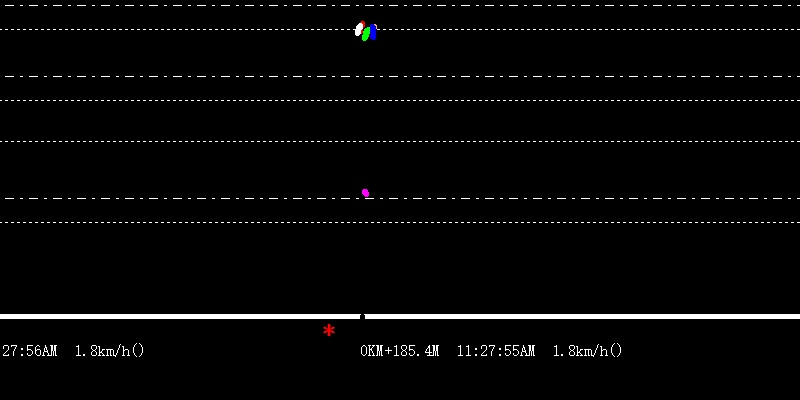face_s: (353, 21, 363, 38), (369, 23, 379, 40)
star: (320, 321, 337, 340)
